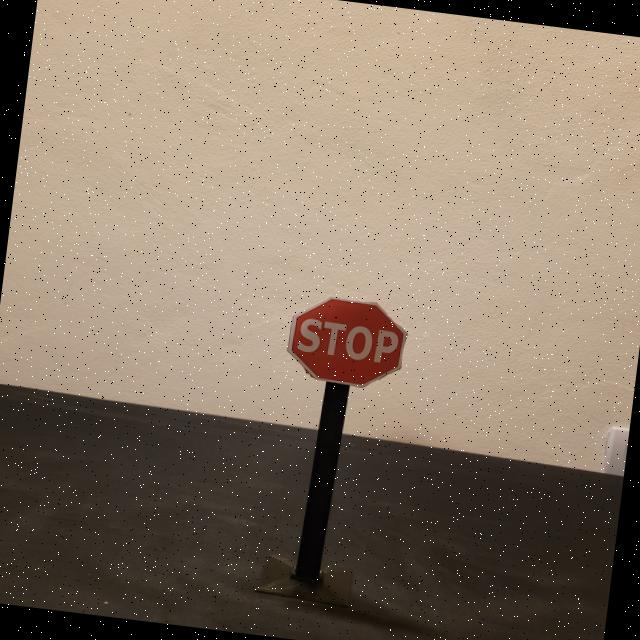stop: (282, 291, 412, 393)
